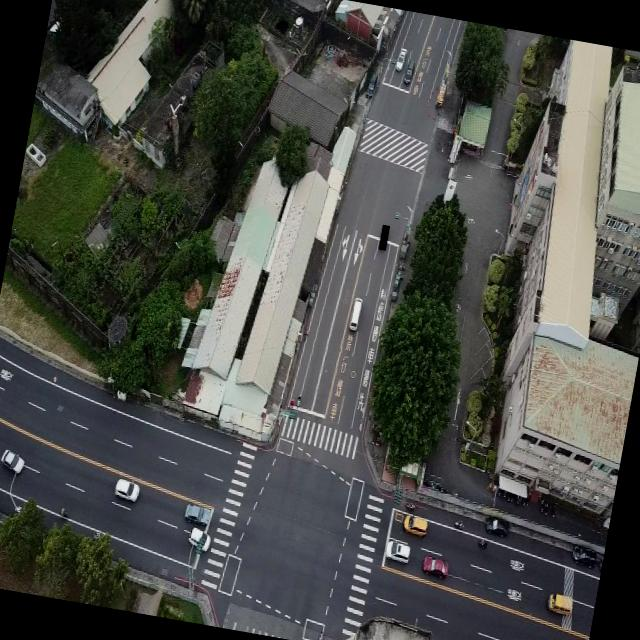bike: (549, 500, 558, 520), (477, 536, 489, 549), (58, 506, 70, 519), (453, 518, 465, 530), (542, 500, 550, 517), (508, 488, 516, 505), (397, 260, 408, 272), (294, 393, 302, 409), (536, 498, 544, 512), (302, 324, 309, 340), (496, 484, 503, 499), (406, 502, 416, 511), (524, 494, 530, 508), (521, 493, 527, 507), (506, 489, 512, 503), (502, 485, 508, 498)
car: (420, 554, 450, 582), (482, 514, 512, 540), (112, 477, 142, 503), (570, 544, 598, 570), (545, 592, 574, 617), (182, 502, 212, 526), (0, 447, 26, 474), (186, 526, 212, 552), (384, 540, 412, 564), (401, 514, 428, 538), (347, 296, 363, 332), (364, 72, 379, 99), (394, 47, 408, 73), (402, 60, 416, 86)
